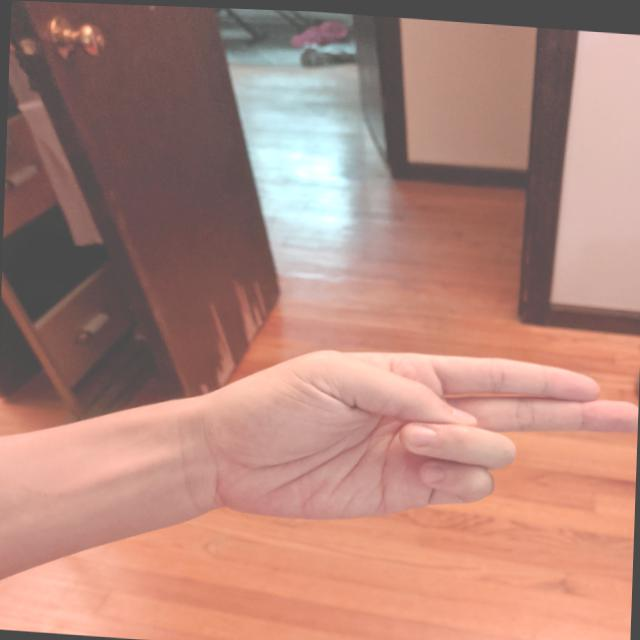H: (196, 327, 640, 546)
